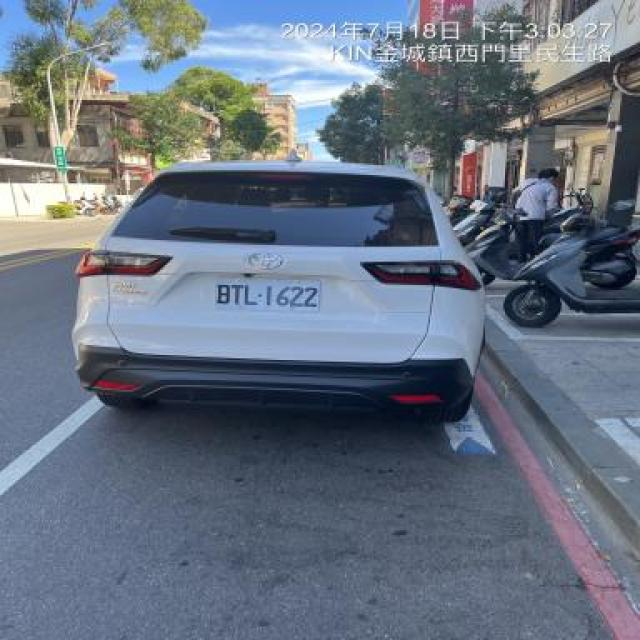Legalparking: (75, 152, 483, 420), (443, 178, 640, 337)
